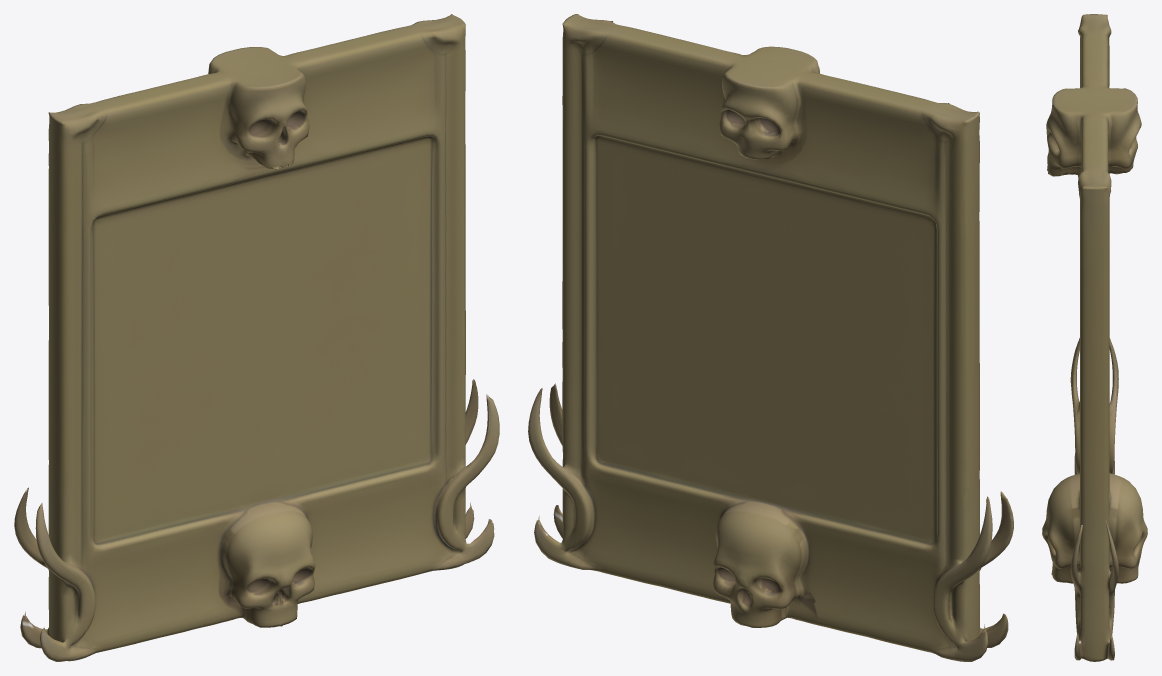
The model's file is base_basic_pbr.fbx.
3 views of the same model, side by side, from view 1: azimuth 30°, elevation 25°; view 2: azimuth 150°, elevation 25°; view 3: azimuth 270°, elevation 25° (orthographic). The views are drawn at different scales.
Visible parts, largest first — view 1: model; view 2: model; view 3: model.
Part boxes in pixels (bbox=[...]): model: bbox=[14, 14, 499, 661]; model: bbox=[528, 14, 1013, 661]; model: bbox=[1042, 14, 1147, 661].
Bounding box in the file's own units: 170 × 190 × 38.35.
1 material, 1 textured.
